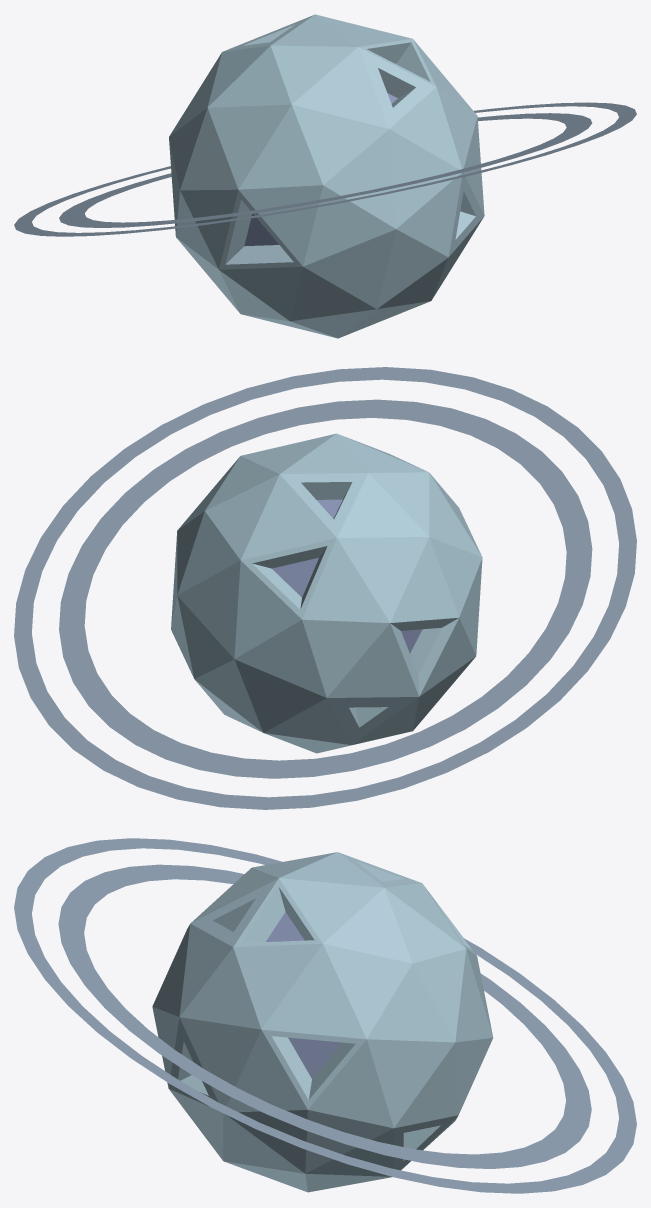
Rendered from SM_planet.fbx.
3 renders of one model, top to bottom at view 1: azimuth 30°, elevation 25°; view 2: azimuth 150°, elevation 25°; view 3: azimuth 270°, elevation 25°, orthographic. The views are drawn at different scales.
Parts seen in each view (by area): view 1: SM_planet; view 2: SM_planet; view 3: SM_planet.
Part boxes in pixels (<box>): SM_planet: <box>14,14,636,338</box>; SM_planet: <box>14,367,636,809</box>; SM_planet: <box>14,838,636,1193</box>.
Bounding box in the file's own units: 10.75 × 5.33 × 10.06.
